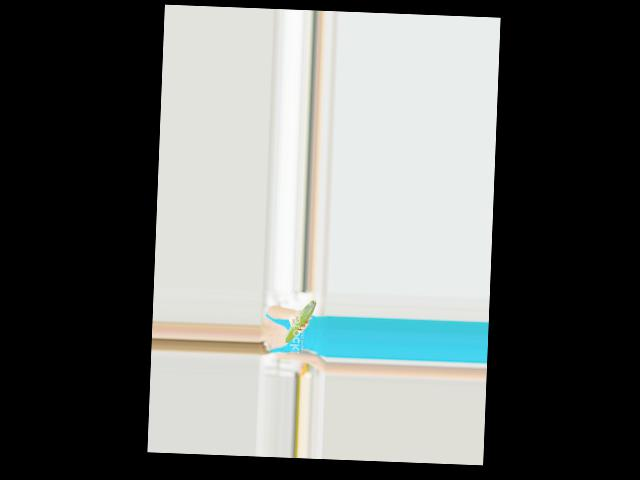cucumber: (284, 299, 316, 344)
